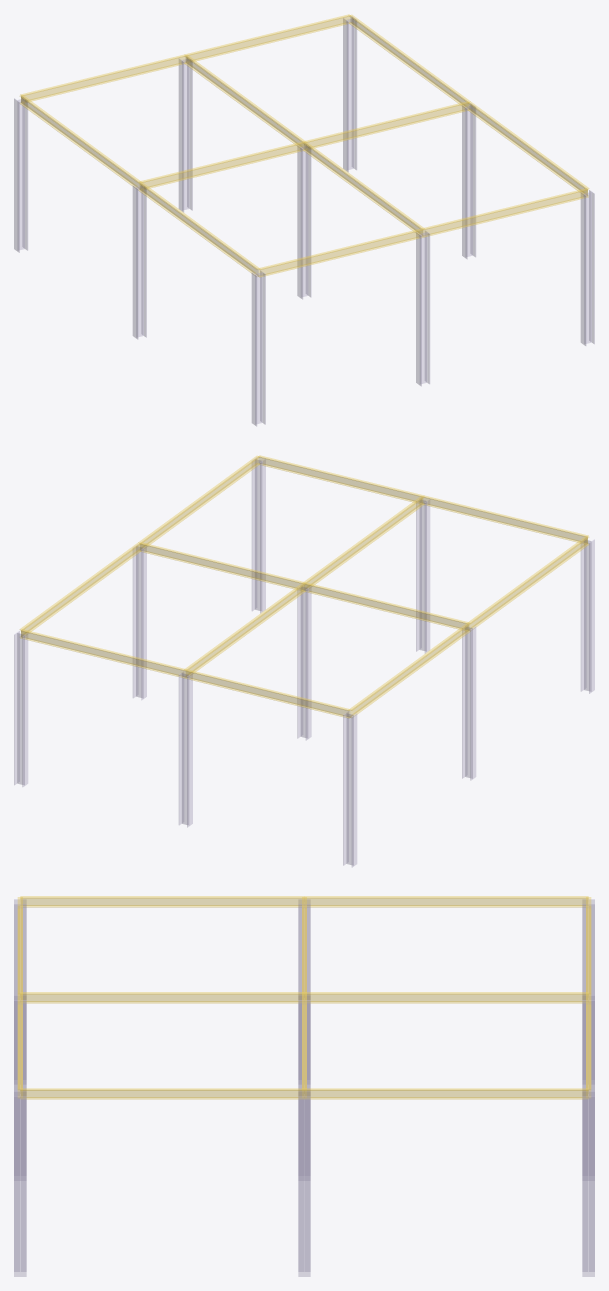
File: small.gltf
The picture shows the model from 3 angles, top to bottom: view 1: azimuth 30°, elevation 25°; view 2: azimuth 150°, elevation 25°; view 3: azimuth 270°, elevation 25°; orthographic projection. The views are drawn at different scales.
Parts seen in each view (by area): view 1: 83 #259, 106 #384, 54 #33, 80 #184, 109 #459, 112 #534, 57 #84, 60 #134, 86 #334, 105 #359, 79 #159, 85 #309 (+9 smaller); view 2: 83 #259, 112 #534, 60 #134, 86 #334, 109 #459, 106 #384, 54 #33, 57 #84, 80 #184, 111 #509, 85 #309, 79 #159 (+9 smaller); view 3: 107 #409, 110 #484, 55 #59, 81 #209, 58 #109, 84 #284, 106 #384, 112 #534, 109 #459, 80 #184, 86 #334, 83 #259 (+7 smaller).
Boxes of the visible parts, <box> form: 83 #259: <box>297,145,311,299</box>; 106 #384: <box>581,190,594,345</box>; 54 #33: <box>252,270,265,426</box>; 80 #184: <box>416,230,429,386</box>; 109 #459: <box>462,103,475,258</box>; 112 #534: <box>343,16,356,172</box>; 57 #84: <box>133,185,146,339</box>; 60 #134: <box>14,98,27,252</box>; 86 #334: <box>179,58,192,212</box>; 105 #359: <box>423,188,588,237</box>; 79 #159: <box>258,228,423,277</box>; 85 #309: <box>20,54,186,102</box>; 83 #259: <box>297,586,311,740</box>; 112 #534: <box>14,631,27,786</box>; 60 #134: <box>343,711,356,867</box>; 86 #334: <box>179,671,192,827</box>; 109 #459: <box>133,544,146,699</box>; 106 #384: <box>252,457,265,613</box>; 54 #33: <box>581,539,594,693</box>; 57 #84: <box>462,626,475,780</box>; 80 #184: <box>416,499,429,653</box>; 111 #509: <box>20,629,185,678</box>; 85 #309: <box>185,669,350,718</box>; 79 #159: <box>422,495,588,543</box>; 107 #409: <box>20,1088,304,1099</box>; 110 #484: <box>304,1088,588,1099</box>; 55 #59: <box>20,896,304,907</box>; 81 #209: <box>20,992,304,1003</box>; 58 #109: <box>304,896,588,907</box>; 84 #284: <box>304,992,588,1003</box>; 106 #384: <box>14,1091,26,1276</box>; 112 #534: <box>582,1091,594,1276</box>; 109 #459: <box>298,1091,310,1276</box>; 80 #184: <box>14,995,26,1180</box>; 86 #334: <box>582,995,594,1180</box>; 83 #259: <box>298,995,310,1180</box>.
Size of the model in its own units: 8.22 by 3.59 by 10.22.
